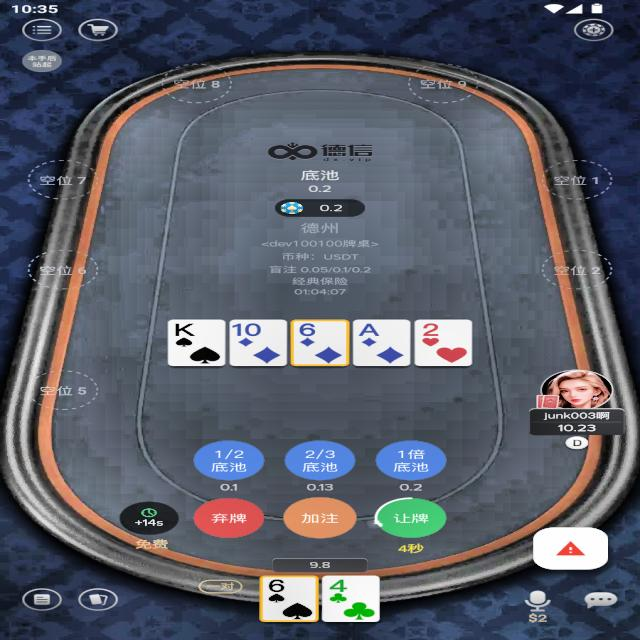10f: (231, 321, 264, 338)
2h: (419, 322, 443, 338)
4m: (326, 578, 350, 594)
6f: (295, 321, 322, 339)
6s: (264, 578, 290, 594)
Af: (356, 322, 384, 338)
Ks: (172, 322, 198, 338)
